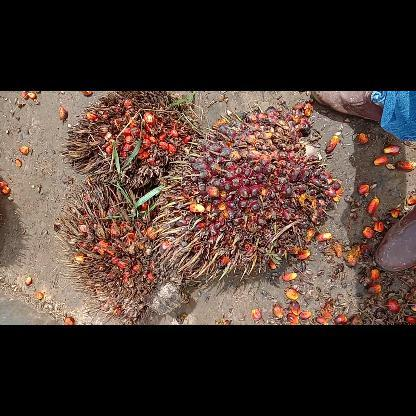TBS masak: (153, 104, 341, 284)
Terlalu masak: (52, 180, 190, 324), (60, 91, 198, 191)
